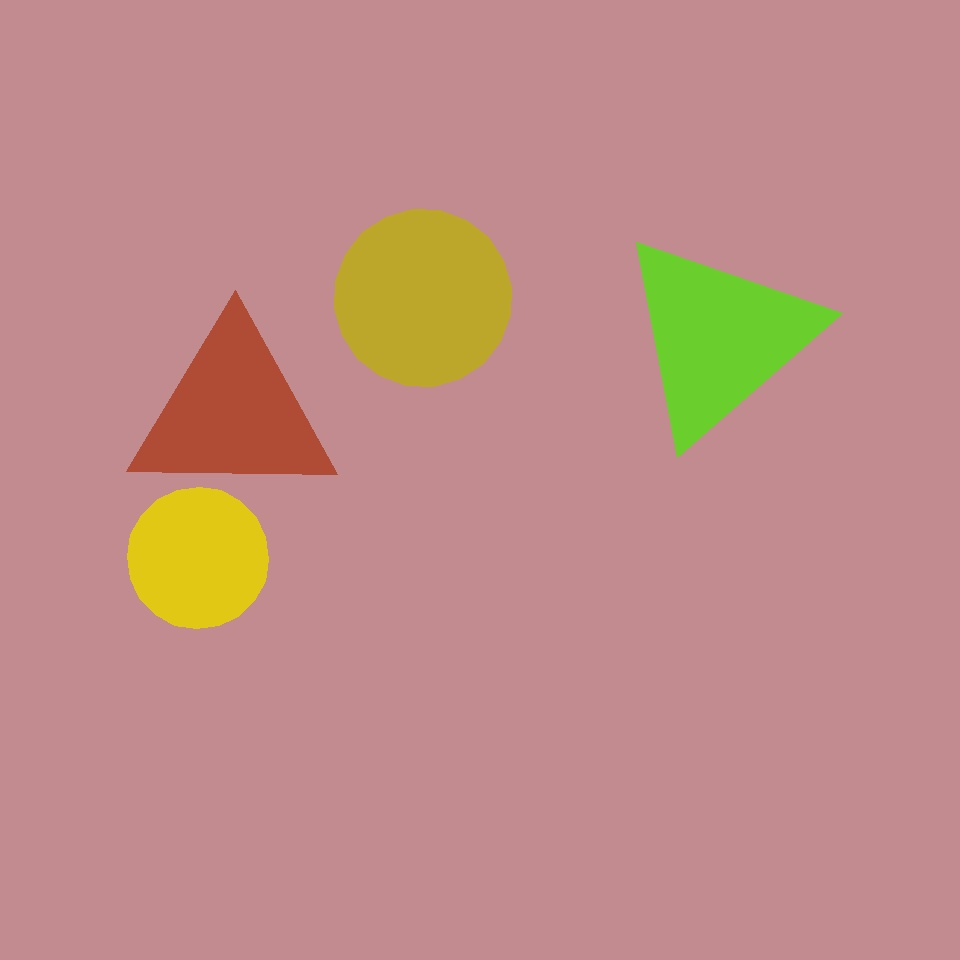circle: (616, 230, 822, 446), (128, 320, 338, 504)
triangle: (334, 210, 512, 386), (128, 488, 268, 629)
